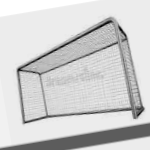goals: (15, 15, 146, 124)
